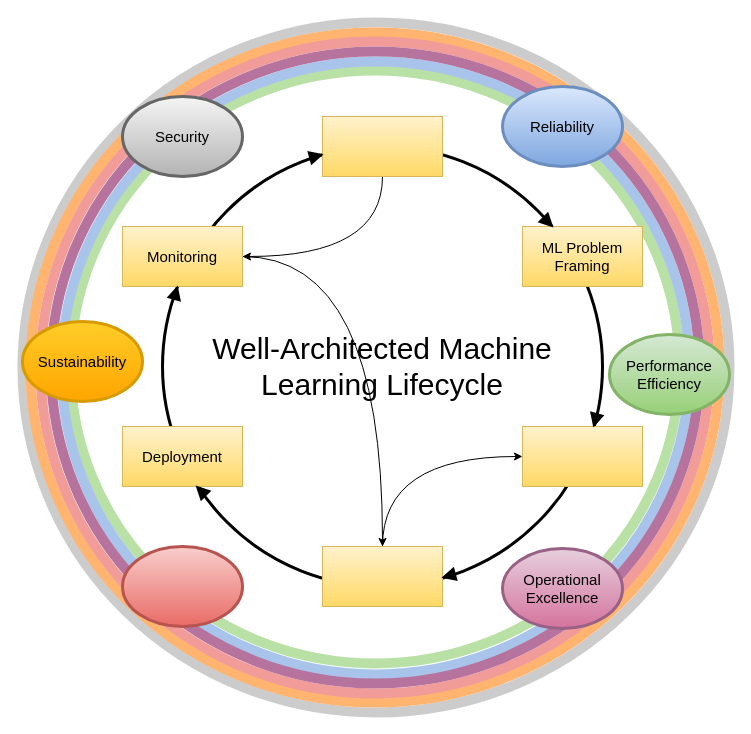
This 751x734 diagram has some shape labels left out. The box of each missing label's shape, as (x1, y1, x2, y2) in pixels:
Business Goal: (322, 116, 442, 176)
Cost Optimization: (120, 544, 244, 628)
Data Processing: (522, 426, 642, 486)
Model Development: (322, 546, 442, 606)
